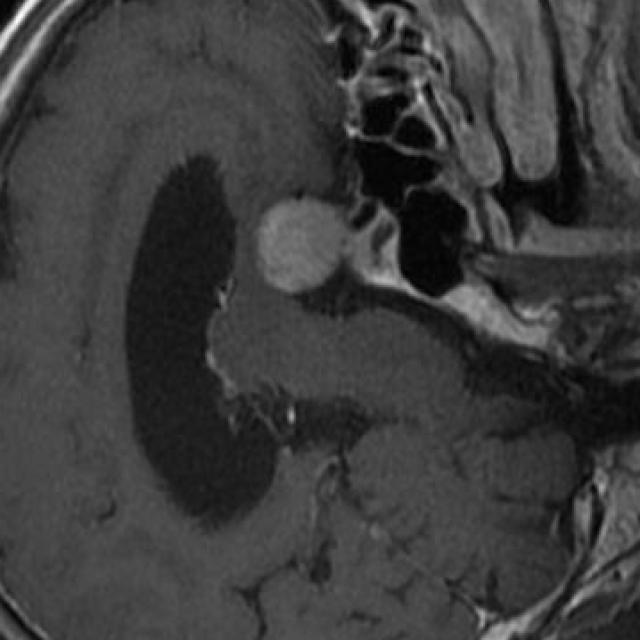pituitary: (258, 200, 342, 294)
